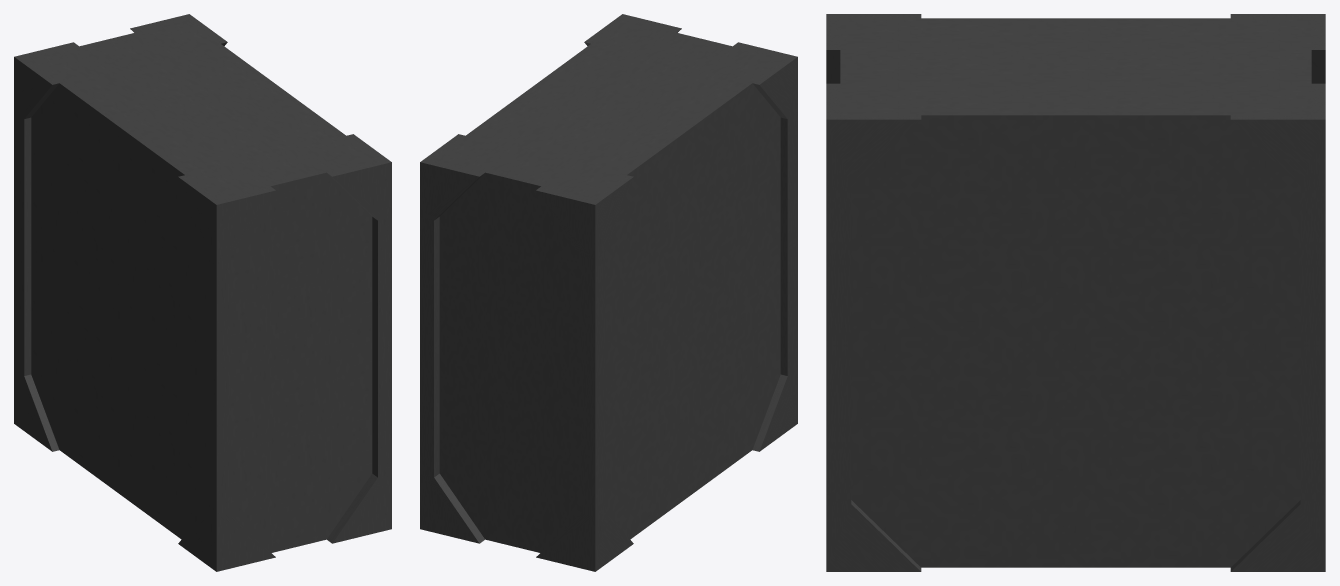
File: WallPiece_01_Full.fbx
3 renders of one model, left to right at view 1: azimuth 30°, elevation 25°; view 2: azimuth 150°, elevation 25°; view 3: azimuth 270°, elevation 25°, orthographic. The views are drawn at different scales.
Parts seen in each view (by area): view 1: Corridor_WallPiece_01_Full; view 2: Corridor_WallPiece_01_Full; view 3: Corridor_WallPiece_01_Full.
Boxes of the visible parts, x1,y1,x2,y2 form: Corridor_WallPiece_01_Full: [14, 14, 391, 571]; Corridor_WallPiece_01_Full: [420, 14, 797, 571]; Corridor_WallPiece_01_Full: [826, 14, 1325, 571].
Bounding box in the file's own units: 50 × 100 × 100.
Materials: 1 (1 with a texture image).
